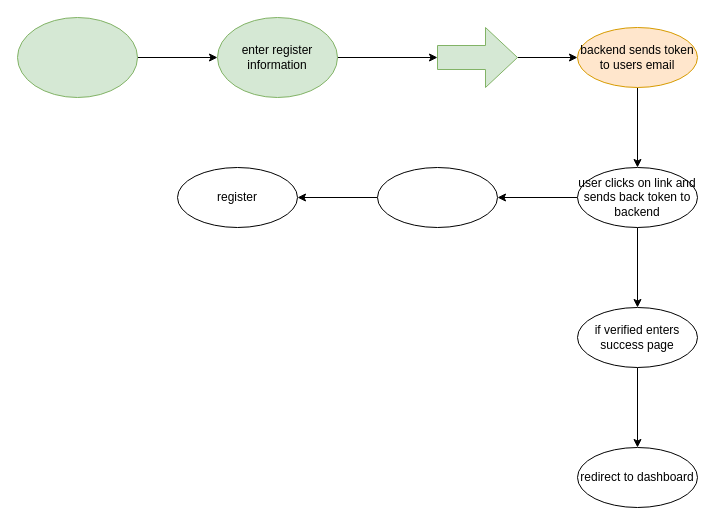
The diagram is 715 pixels wide and 525 high, and some of its shapes have lost their labels. The shapes that lost their labels are listed below. From the top down, each one's centre as x and y in pixels, then its label:
At point 77,57: "enter register page".
At point 477,57: "form submit and send data to backend".
At point 437,197: "if not go to failure page".
